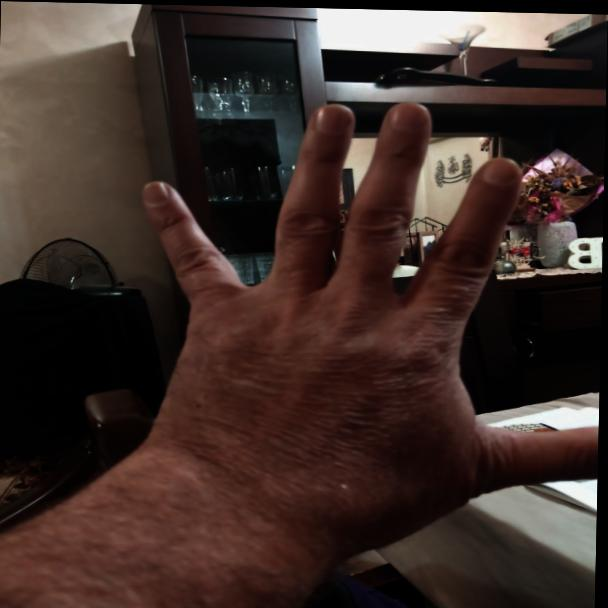five: (90, 96, 604, 578)
